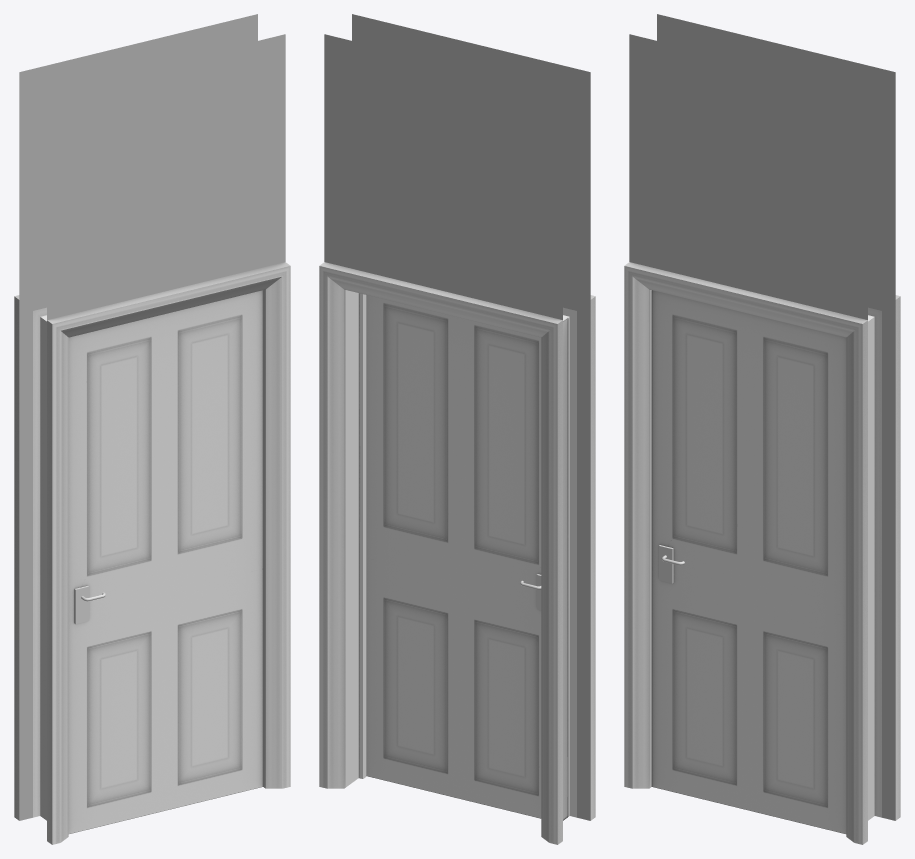
The model's file is WallDoor4.fbx.
3 renders of one model, left to right at view 1: azimuth 30°, elevation 25°; view 2: azimuth 150°, elevation 25°; view 3: azimuth 330°, elevation 25°, orthographic.
Visible parts, largest first — view 1: DoorLeaf, WallDoor, DoorFrame, WallDoor.001, Plane.097; view 2: DoorLeaf, WallDoor.001, DoorFrame, WallDoor; view 3: DoorLeaf, WallDoor, DoorFrame, WallDoor.001.
Part boxes in pixels (<box>): DoorLeaf: <box>68,290,263,833</box>; WallDoor: <box>47,34,285,319</box>; DoorFrame: <box>14,262,290,844</box>; WallDoor.001: <box>19,14,257,820</box>; Plane.097: <box>74,585,89,624</box>; DoorLeaf: <box>366,295,568,820</box>; WallDoor.001: <box>324,34,562,319</box>; DoorFrame: <box>319,262,595,844</box>; WallDoor: <box>352,14,590,820</box>; DoorLeaf: <box>651,290,846,833</box>; WallDoor: <box>629,34,867,319</box>; DoorFrame: <box>624,262,900,844</box>; WallDoor.001: <box>657,14,895,820</box>.
Size of the model in its own units: 100 by 300 by 27.56.
2 materials, 2 textured.
